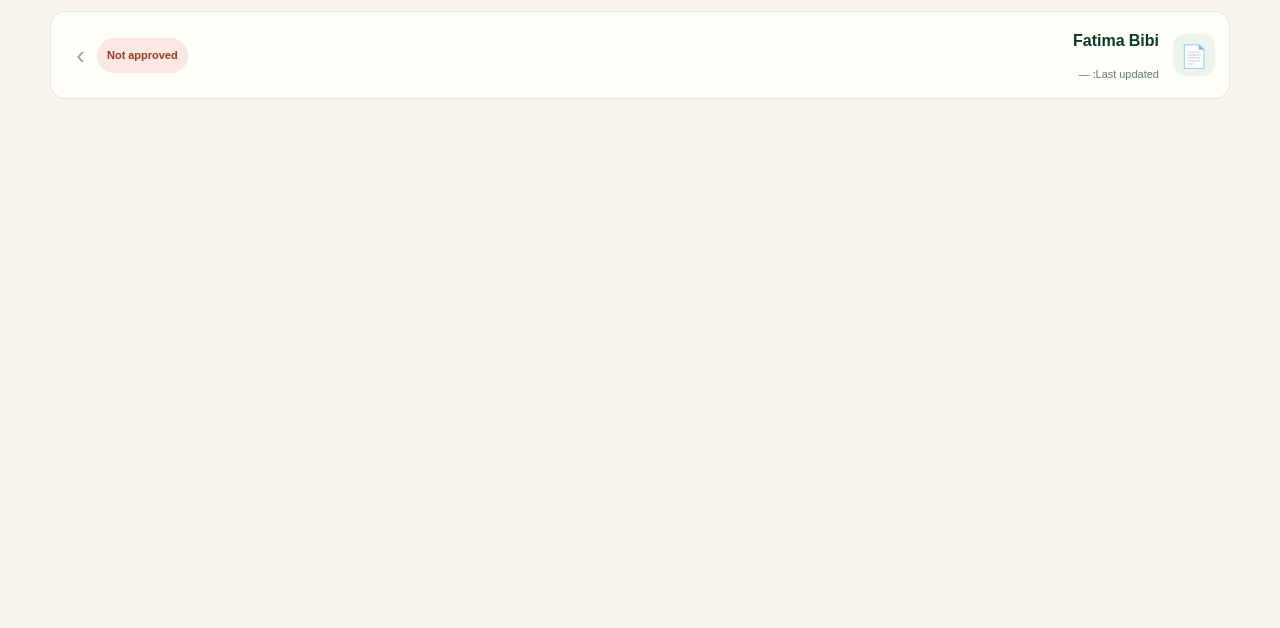
citizen application journey › shows the officer-written rejection reason on the citizen receipt
The width and height of the screenshot is (1280, 628).
Click the button "📄 Fatima Bibi Last updated: — Not approved ›" at (1194, 55), box [50,11,1230,99]
(page scrolled)
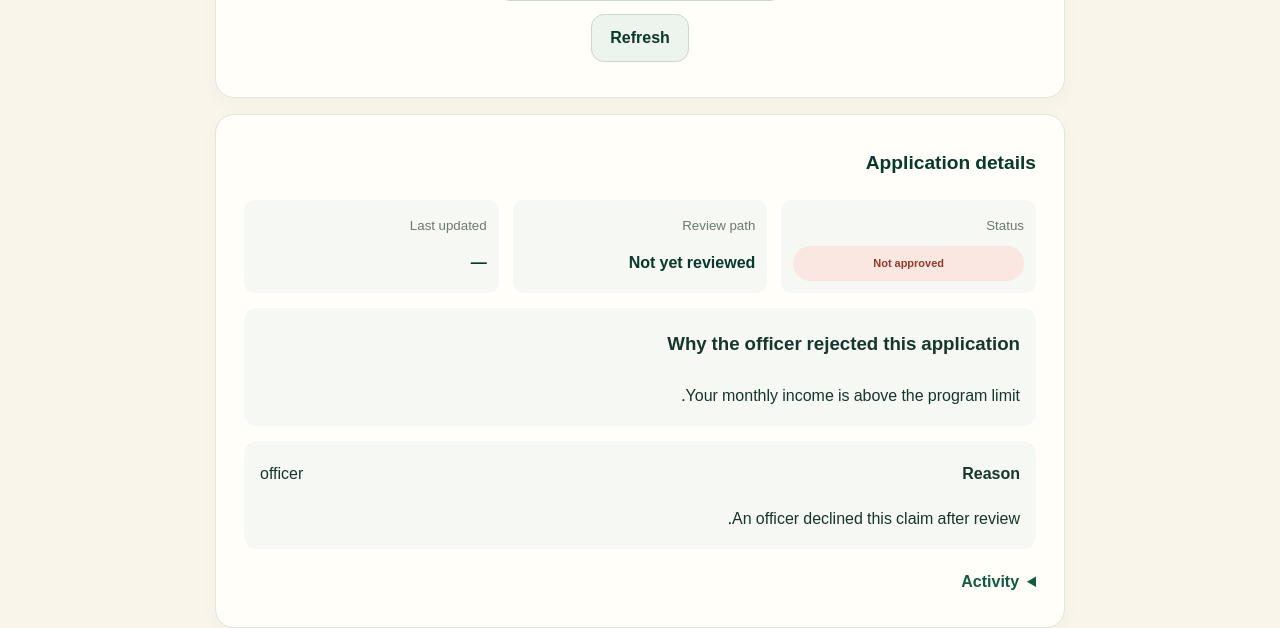
Check: the heading "Why the officer rejected this application" is shown, box [667,324,1020,364]
Check: the text "Your monthly income is above the program limit." is shown, box [681,378,1020,412]
